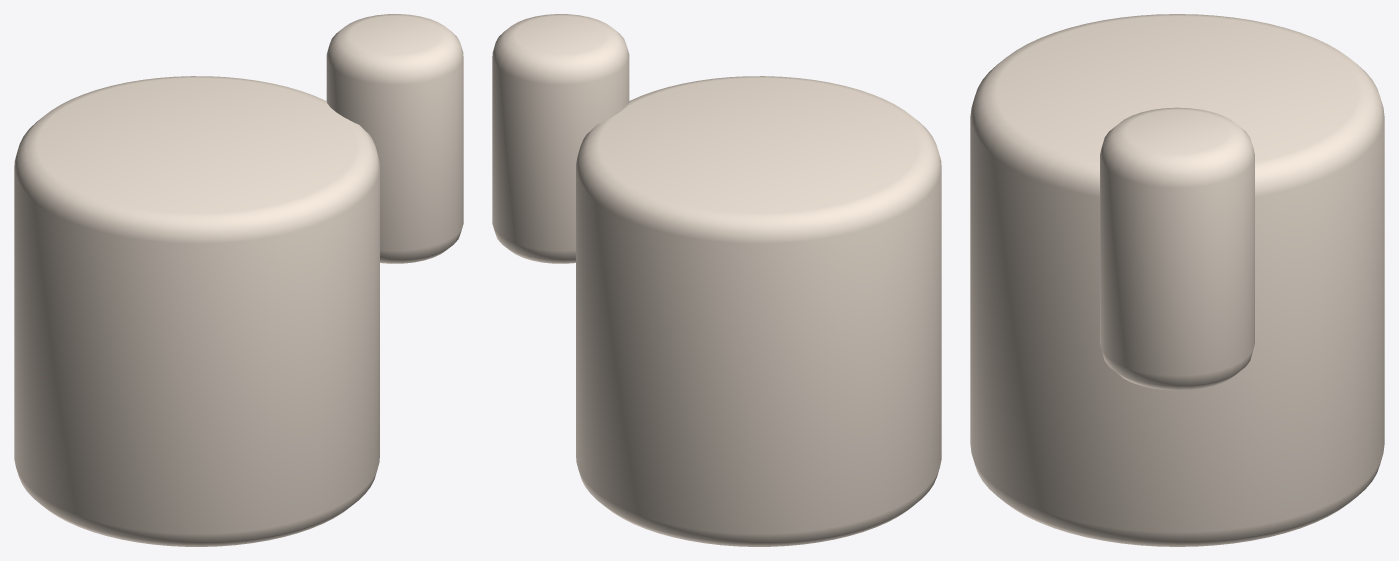
Rendered from 10f5ecb1-9dcd-46cd-9dad-58427f5ba9dd.glb.
3 renders of one model, left to right at view 1: azimuth 30°, elevation 25°; view 2: azimuth 150°, elevation 25°; view 3: azimuth 270°, elevation 25°, orthographic. The views are drawn at different scales.
Parts seen in each view (by area): view 1: Cup, Handle; view 2: Cup, Handle; view 3: Cup, Handle.
Part boxes in pixels (box(x1,y1,x2,y2)): Cup: box(14, 76, 379, 546); Handle: box(326, 14, 463, 263); Cup: box(576, 76, 941, 546); Handle: box(492, 14, 629, 263); Cup: box(970, 14, 1384, 546); Handle: box(1100, 107, 1254, 390).
Bounding box in the file's own units: 0.105 × 0.095 × 0.08.
